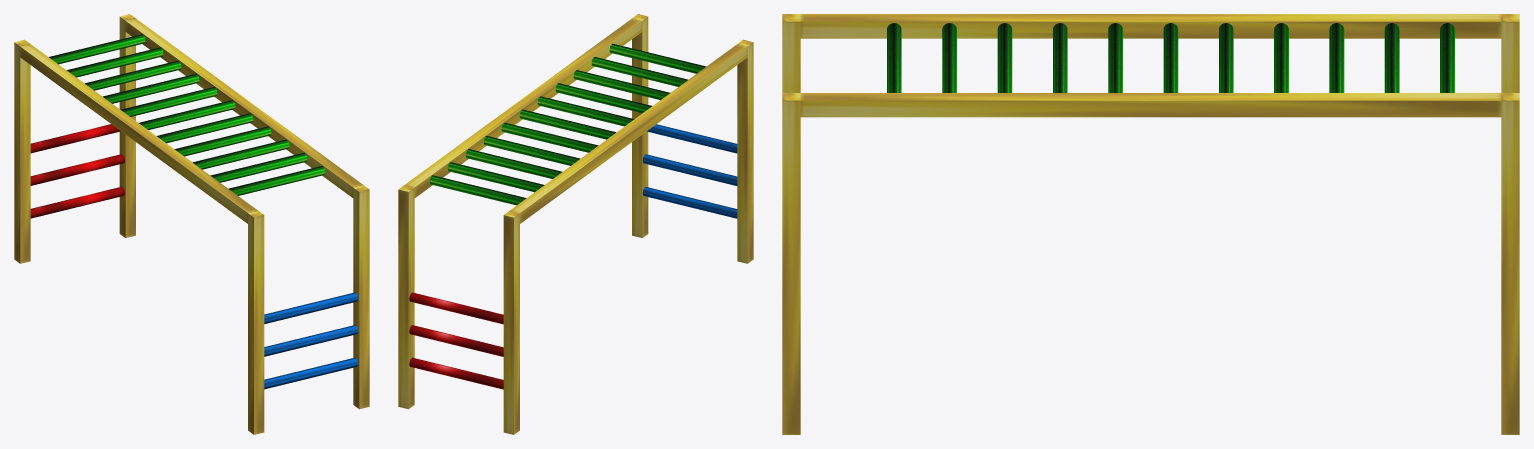
Rendered from Monkey Bar.fbx.
3 views of the same model, side by side, from view 1: azimuth 30°, elevation 25°; view 2: azimuth 150°, elevation 25°; view 3: azimuth 270°, elevation 25° (orthographic). The views are drawn at different scales.
Visible parts, largest first — view 1: Cube__4_, Cube__5_, Cube, Cube__1_, Cube__2_, Cube__3_, Cylinder__2_, Cylinder__3_, Cylinder__16_, Cylinder__17_, Cylinder__18_, Cylinder__13_ (+11 smaller); view 2: Cube__4_, Cube__5_, Cube__2_, Cube__3_, Cube, Cube__1_, Cylinder__16_, Cylinder__17_, Cylinder__4_, Cylinder__3_, Cylinder__2_, Cylinder__15_ (+11 smaller); view 3: Cube__5_, Cube__4_, Cube__1_, Cube__3_, Cube, Cube__2_, Cylinder__6_, Cylinder__7_, Cylinder__10_, Cylinder__13_, Cylinder__11_, Cylinder__12_ (+5 smaller).
Part boxes in pixels (bbox=[...]): Cube__4_: bbox=[20, 44, 257, 223]; Cube__5_: bbox=[125, 18, 362, 197]; Cube: bbox=[248, 211, 264, 434]; Cube__1_: bbox=[353, 185, 369, 409]; Cube__2_: bbox=[14, 39, 30, 263]; Cube__3_: bbox=[119, 14, 135, 237]; Cylinder__2_: bbox=[30, 186, 124, 218]; Cylinder__3_: bbox=[30, 154, 124, 185]; Cylinder__16_: bbox=[264, 357, 358, 389]; Cylinder__17_: bbox=[264, 325, 358, 356]; Cylinder__18_: bbox=[264, 292, 358, 323]; Cylinder__13_: bbox=[192, 139, 289, 169]; Cube__4_: bbox=[510, 44, 747, 223]; Cube__5_: bbox=[405, 18, 642, 197]; Cube__2_: bbox=[503, 211, 519, 434]; Cube__3_: bbox=[398, 185, 414, 409]; Cube: bbox=[737, 39, 753, 263]; Cube__1_: bbox=[632, 14, 648, 237]; Cylinder__16_: bbox=[642, 187, 737, 218]; Cylinder__17_: bbox=[642, 154, 737, 185]; Cylinder__4_: bbox=[409, 292, 503, 324]; Cylinder__3_: bbox=[409, 325, 503, 356]; Cylinder__2_: bbox=[409, 357, 503, 389]; Cylinder__15_: bbox=[609, 43, 706, 73]; Cube__5_: bbox=[800, 93, 1501, 117]; Cube__4_: bbox=[800, 14, 1501, 38]; Cube__1_: bbox=[782, 93, 800, 434]; Cube__3_: bbox=[1501, 93, 1519, 434]; Cube: bbox=[782, 14, 800, 92]; Cube__2_: bbox=[1501, 14, 1519, 92]; Cylinder__6_: bbox=[1384, 23, 1399, 92]; Cylinder__7_: bbox=[1329, 23, 1344, 92]; Cylinder__10_: bbox=[1163, 23, 1178, 92]; Cylinder__13_: bbox=[997, 23, 1012, 92]; Cylinder__11_: bbox=[1108, 23, 1122, 92]; Cylinder__12_: bbox=[1053, 23, 1067, 92].
Bounding box in the file's own units: 1114 × 2000 × 4000.
